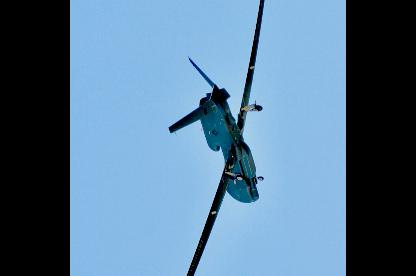P3: (156, 0, 277, 275)
